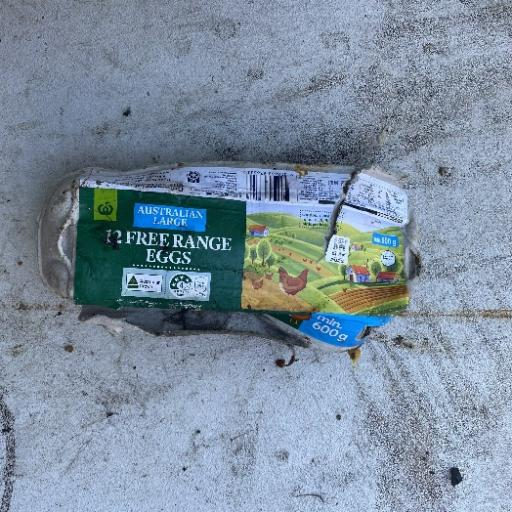Cardboard: (52, 163, 412, 346)
